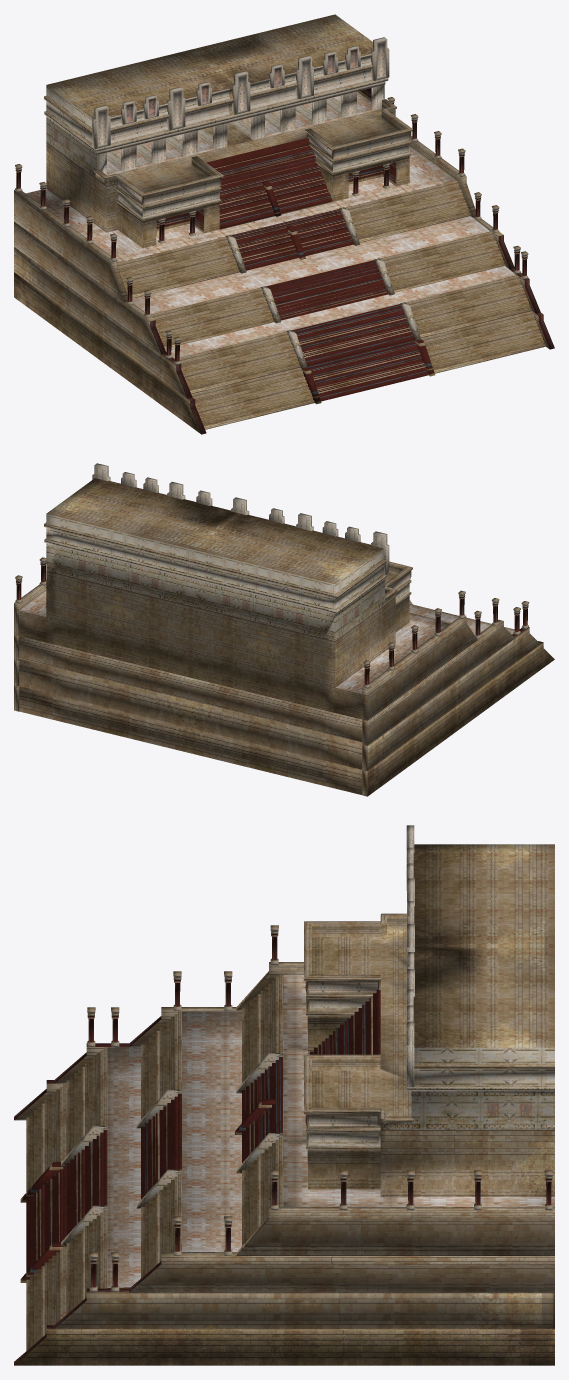
Rendered from temple2.dae.
3 renders of one model, top to bottom at view 1: azimuth 30°, elevation 25°; view 2: azimuth 150°, elevation 25°; view 3: azimuth 270°, elevation 25°, orthographic. The views are drawn at different scales.
Visible parts, largest first — view 1: meshU3D; view 2: meshU3D; view 3: meshU3D.
Part boxes in pixels (x1,y1,x2,y2): meshU3D: [14, 14, 554, 434]; meshU3D: [14, 463, 554, 796]; meshU3D: [14, 825, 554, 1365].
Size of the model in its own units: 1289 by 758 by 1184.
4 materials, 4 textured.
